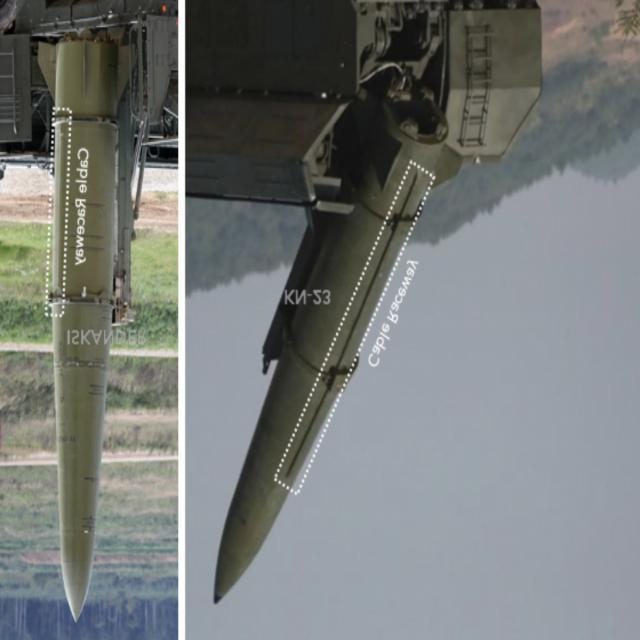missile: (206, 110, 471, 614), (46, 29, 101, 599)
